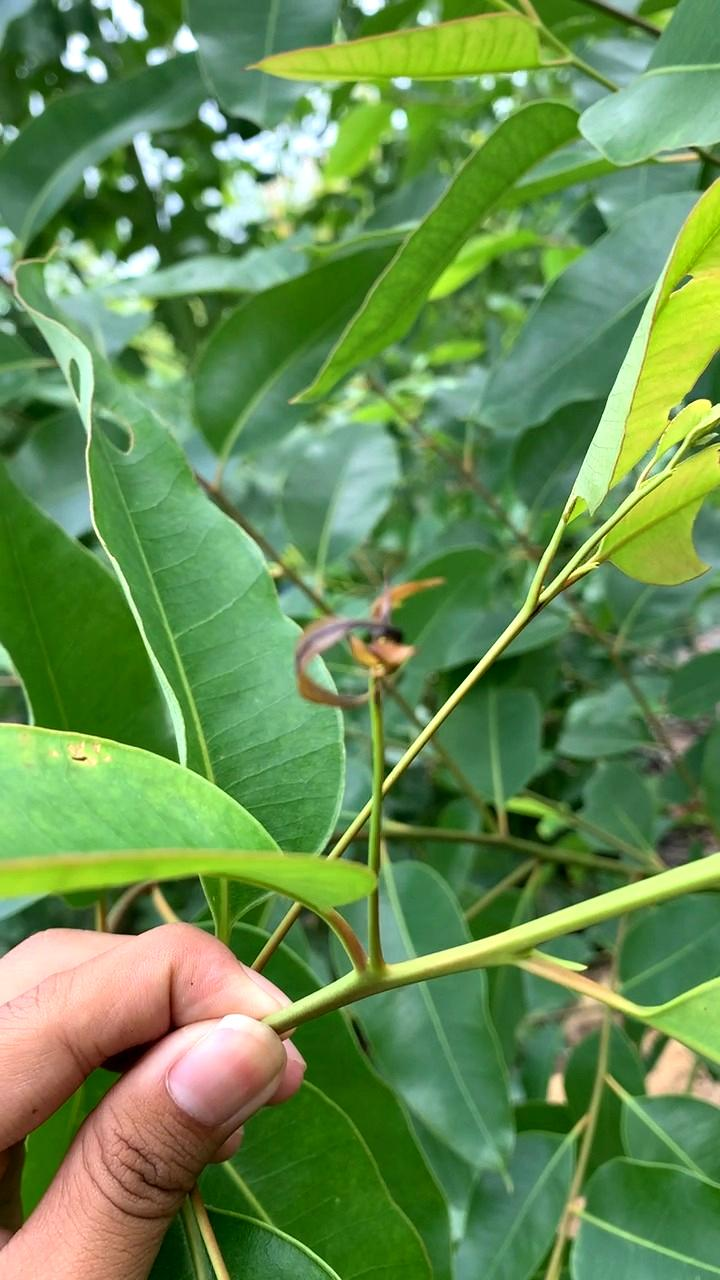Helopeltis-Withered Sprout: (286, 573, 453, 705)
